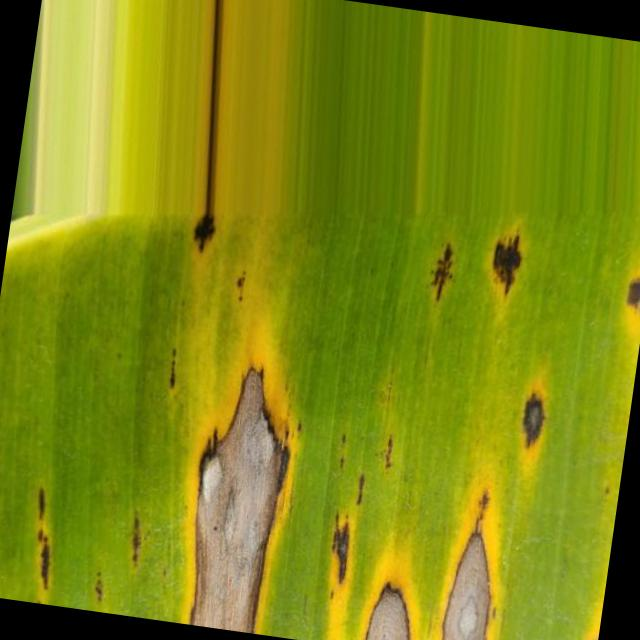Banana_Yellow_Sigatoka: (150, 353, 550, 640), (141, 0, 332, 263), (421, 222, 640, 344)
